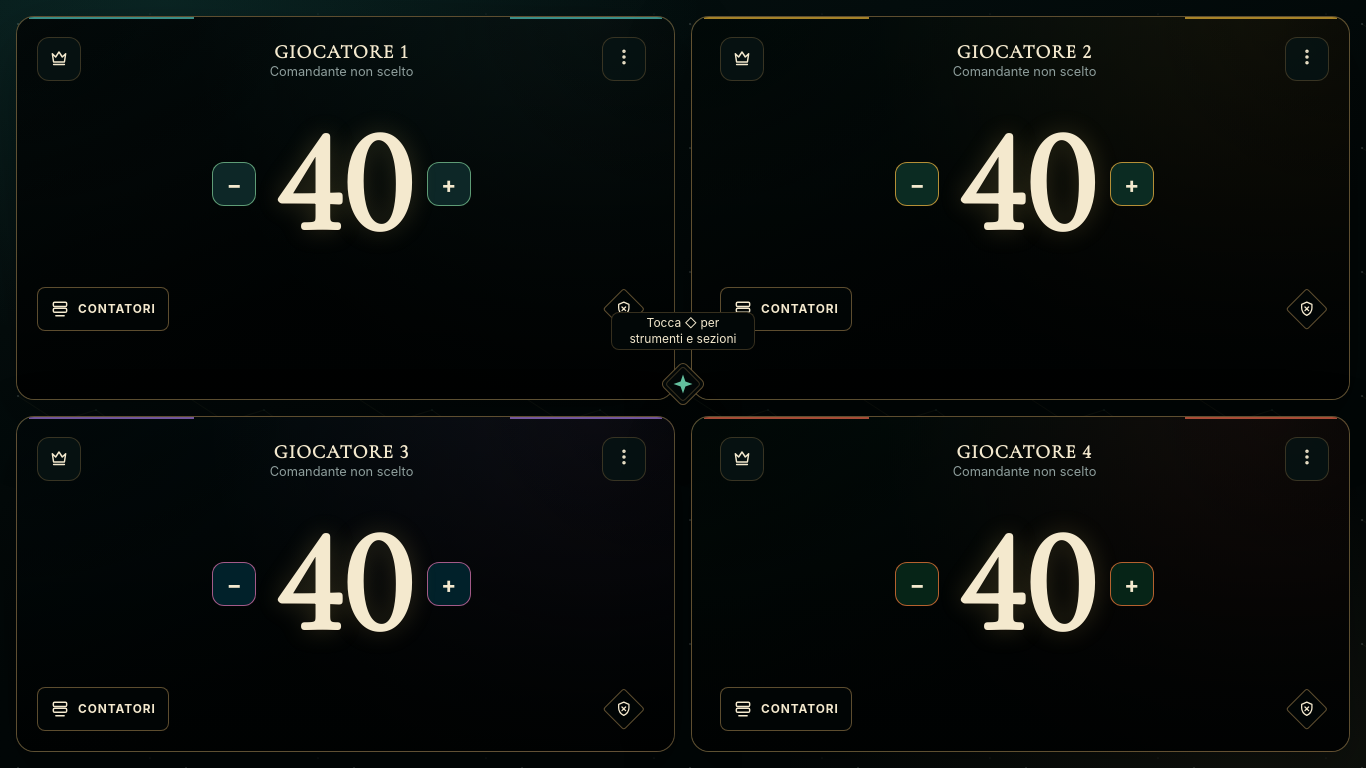
Scenario: scoring › adjusts counters in the Contatori drawer
Click the button "Contatori" below "Giocatore 1": click(103, 309) [37,287,169,331]
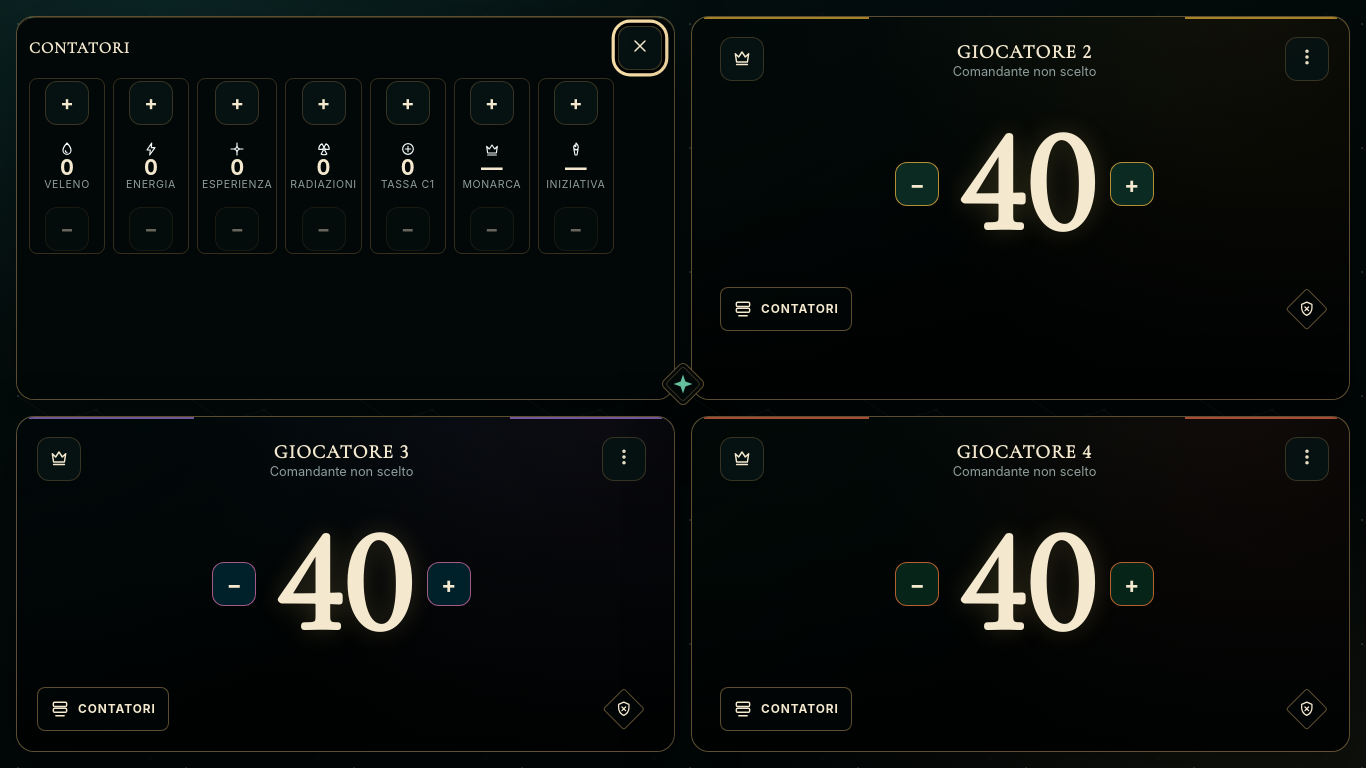
Click the button named "aggiungi 1 al veleno di giocatore 1": click(67, 103) [45,81,89,125]
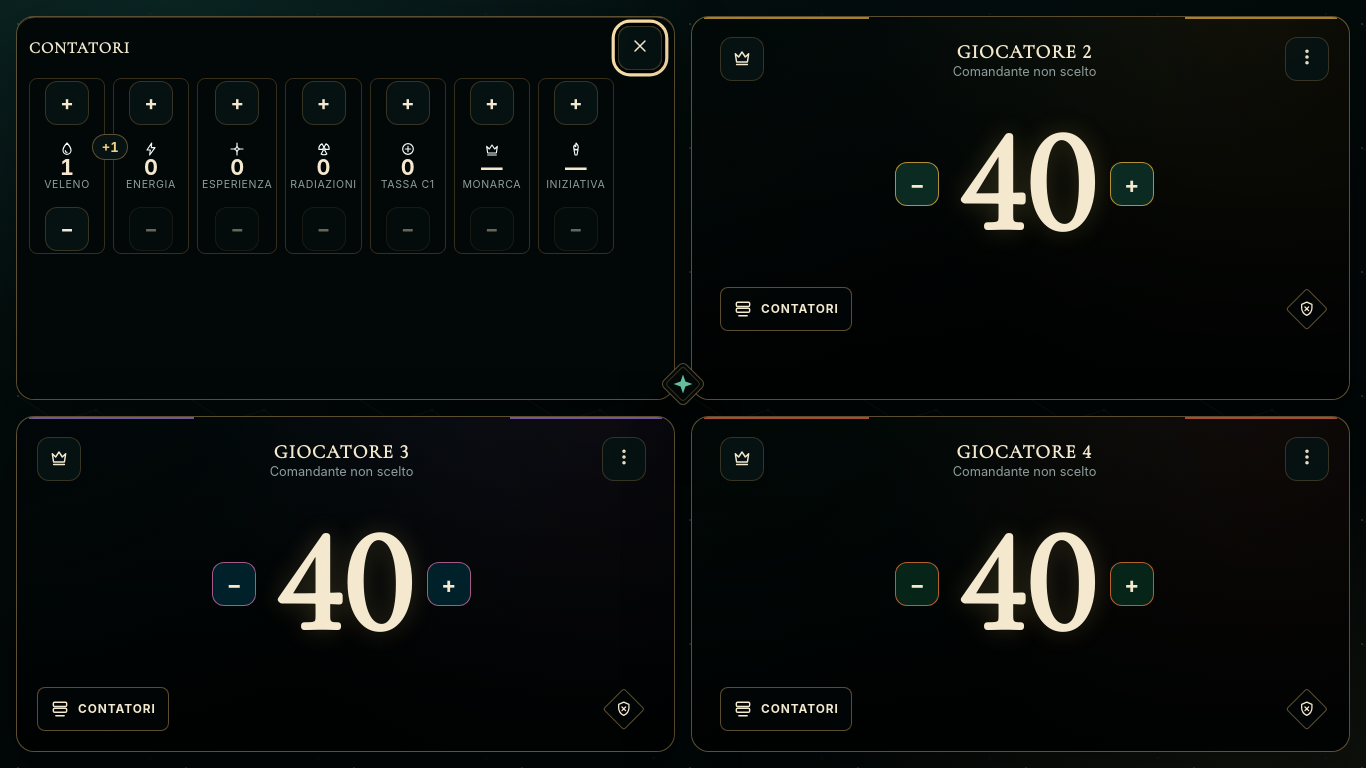
Click the button named "aggiungi 1 al veleno di giocatore 1": click(67, 103) [45,81,89,125]
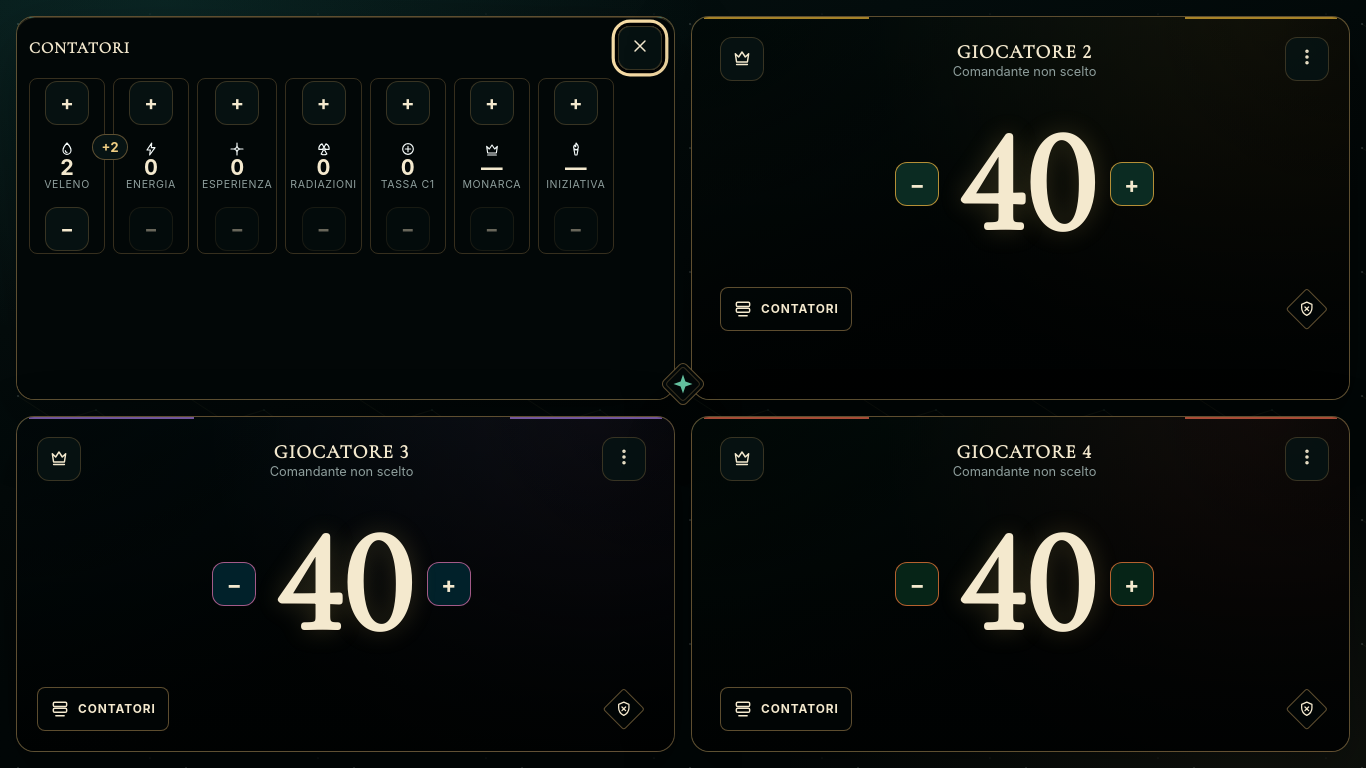
Click the button named "togli 1 dal veleno di giocatore 1": click(67, 229) [45,207,89,251]
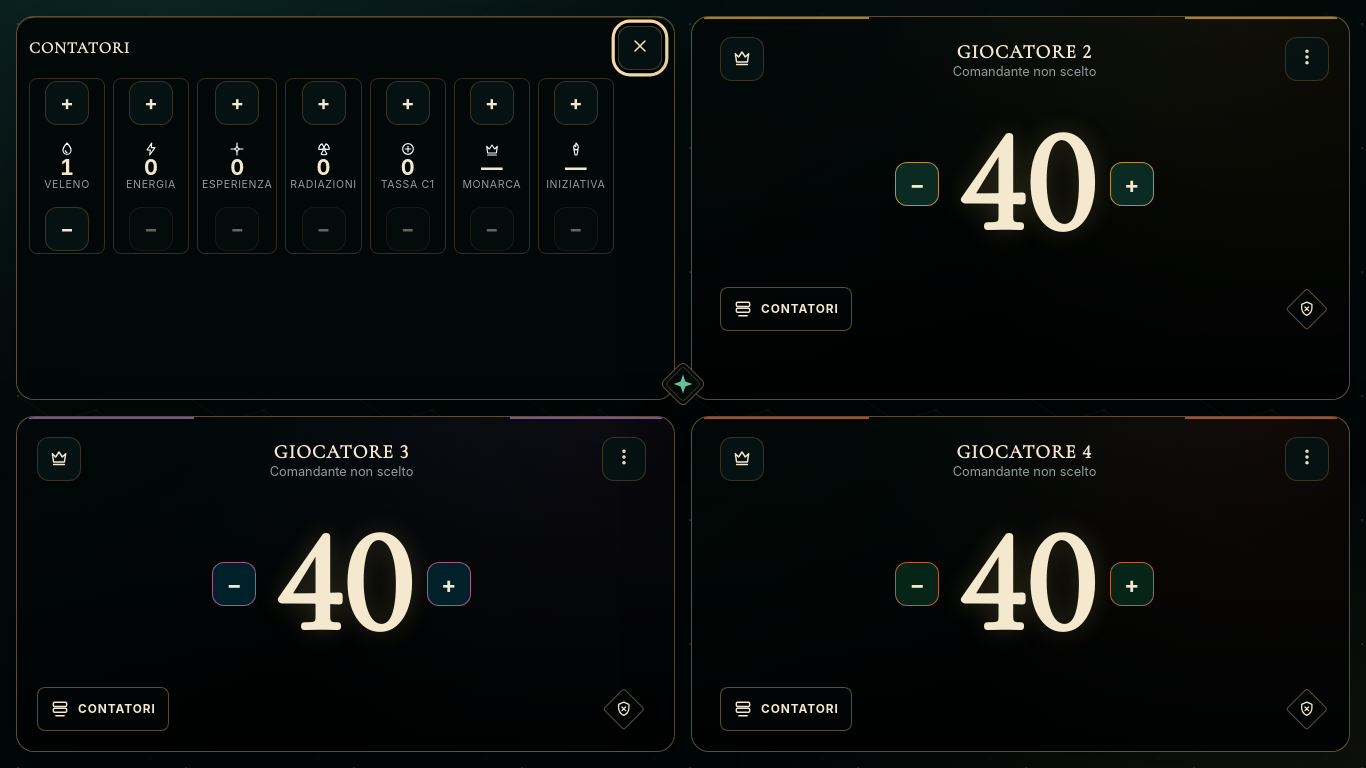
Now the text with test id "counter-value" reads "1", box [60,154,74,180]
